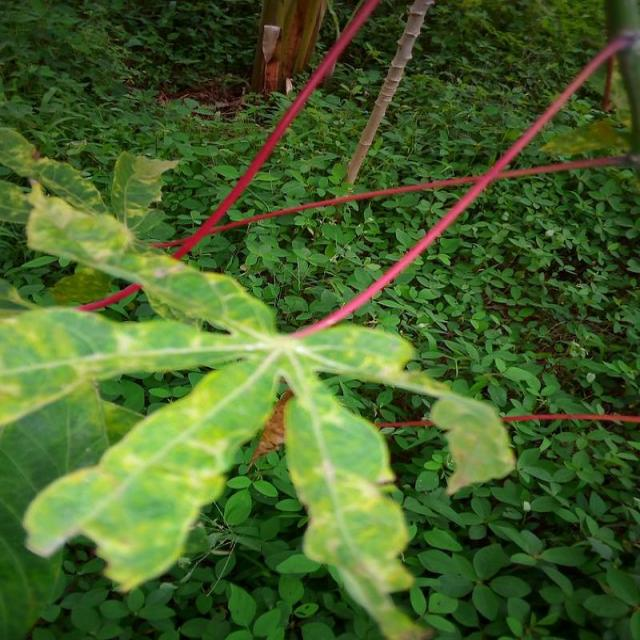cassava leaf: (2, 130, 517, 636)
